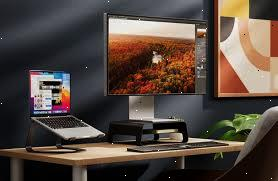keyboard: (125, 138, 230, 158)
laptop: (23, 66, 109, 145)
monitor: (100, 8, 213, 100)
